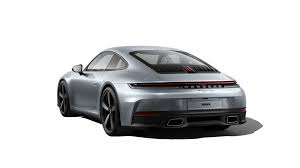car: (56, 44, 246, 137)
